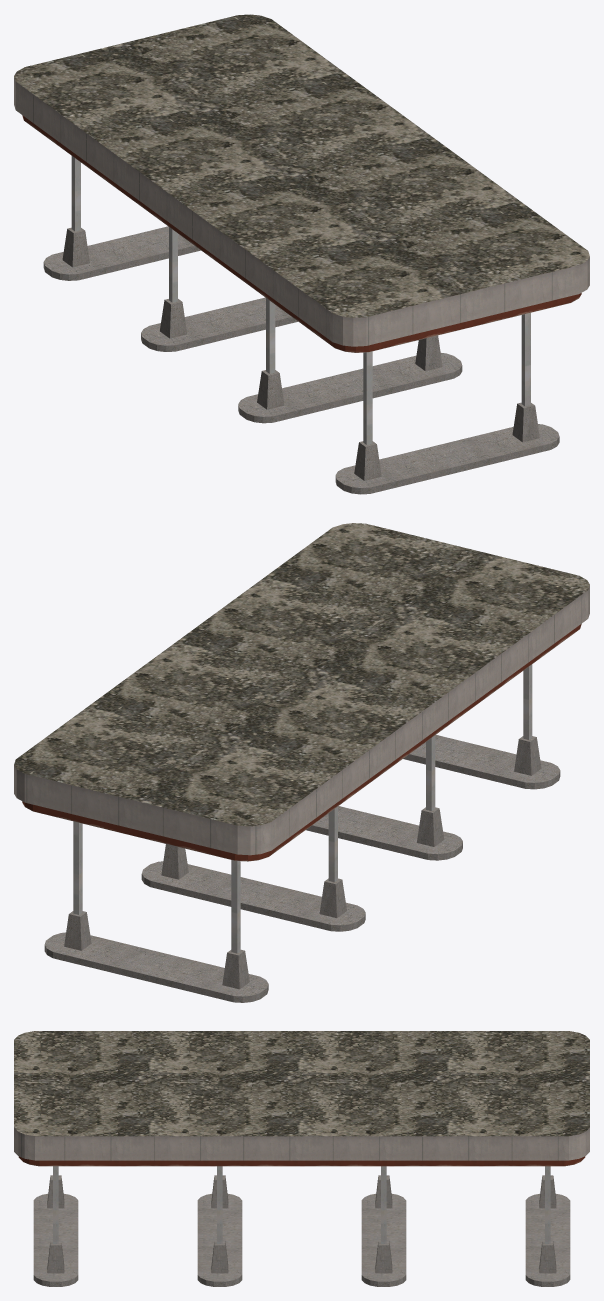
The model's file is desn_tscanopy.obj.
The picture shows the model from 3 angles, top to bottom: view 1: azimuth 30°, elevation 25°; view 2: azimuth 150°, elevation 25°; view 3: azimuth 270°, elevation 25°; orthographic projection. The views are drawn at different scales.
Parts seen in each view (by area): view 1: desn_tscanopy; view 2: desn_tscanopy; view 3: desn_tscanopy.
Boxes of the visible parts, x1,y1,x2,y2 form: desn_tscanopy: (14,14,589,494); desn_tscanopy: (14,523,589,1002); desn_tscanopy: (14,1031,589,1286).
Bounding box in the file's own units: 8.35 × 5.9 × 19.32.
Materials: 4 (4 with a texture image).
